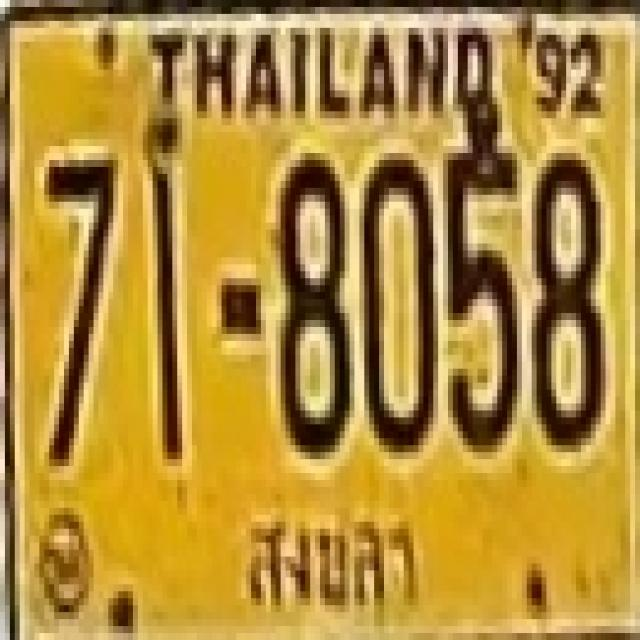0: (359, 153, 434, 445)
5: (446, 139, 520, 445)
7: (44, 153, 114, 452), (44, 157, 114, 365)
8: (526, 146, 600, 438), (276, 150, 344, 448)
SKA: (232, 502, 428, 604)
